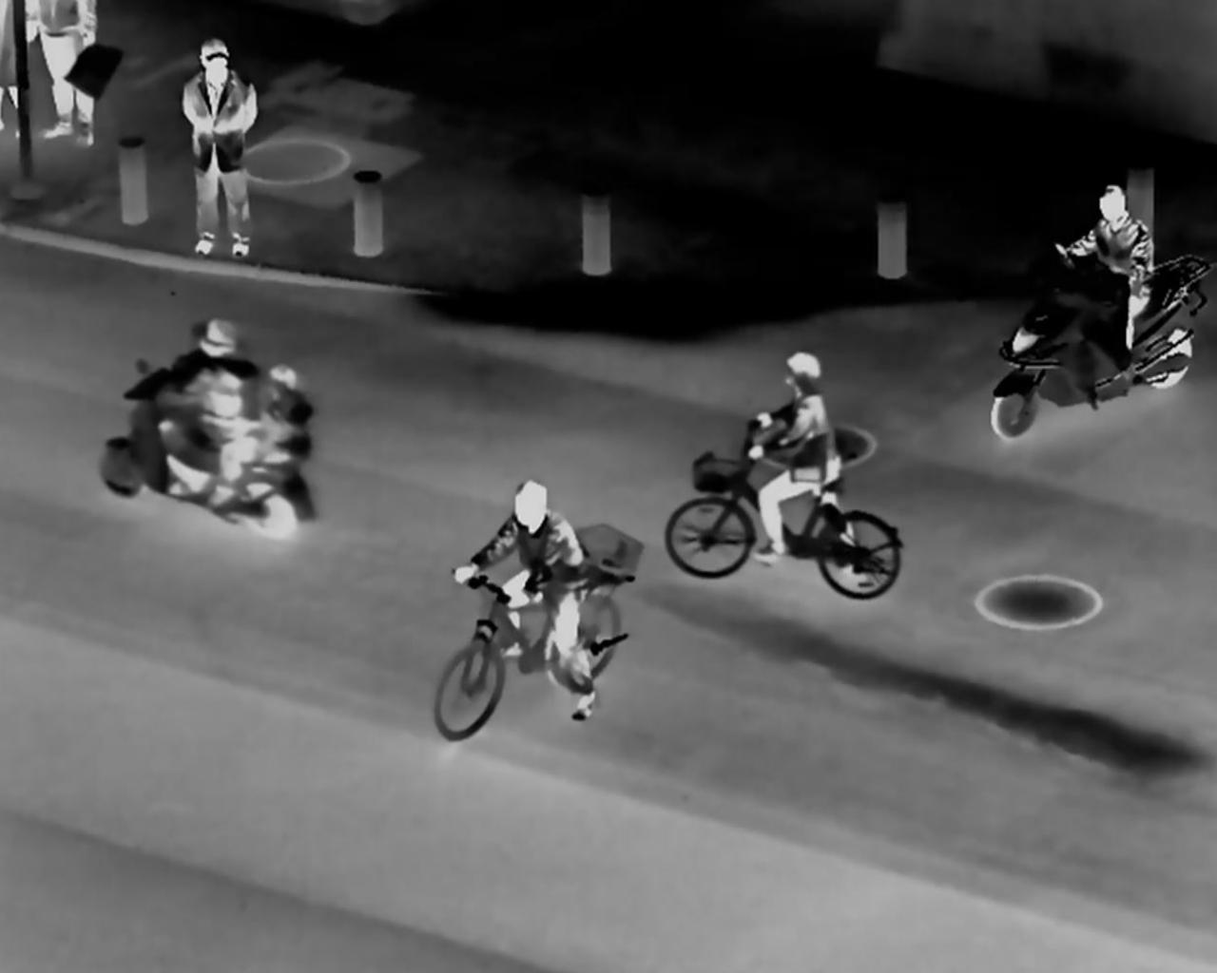person: (454, 467, 606, 733), (169, 33, 273, 258), (744, 349, 841, 561), (1056, 179, 1159, 364), (155, 309, 249, 475), (237, 357, 316, 486)
